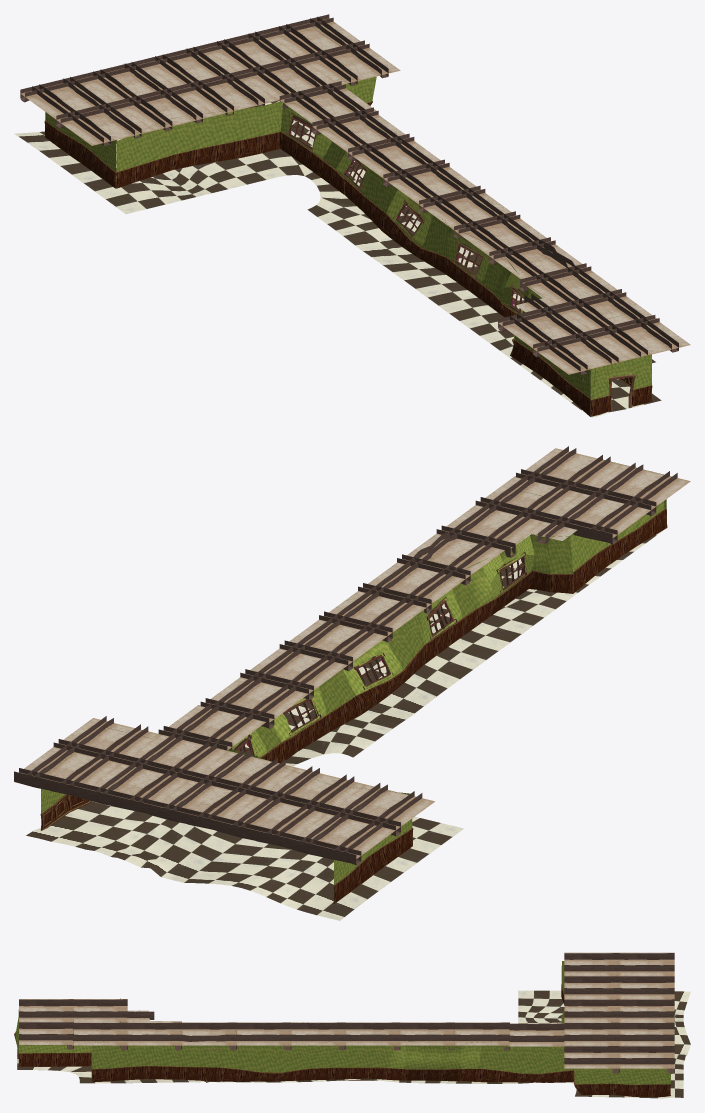
The model's file is Hallway_all.fbx.
3 views of the same model, one above another, from view 1: azimuth 30°, elevation 25°; view 2: azimuth 150°, elevation 25°; view 3: azimuth 270°, elevation 25° (orthographic). The views are drawn at different scales.
Parts seen in each view (by area): view 1: main; view 2: main; view 3: main.
Part boxes in pixels (x1=…): main: x1=14, y1=14, x2=690, y2=417; main: x1=14, y1=446, x2=690, y2=920; main: x1=14, y1=952, x2=690, y2=1098.
Bounding box in the file's own units: 3452 × 607 × 8496.
Materials: 9 (8 with a texture image).
